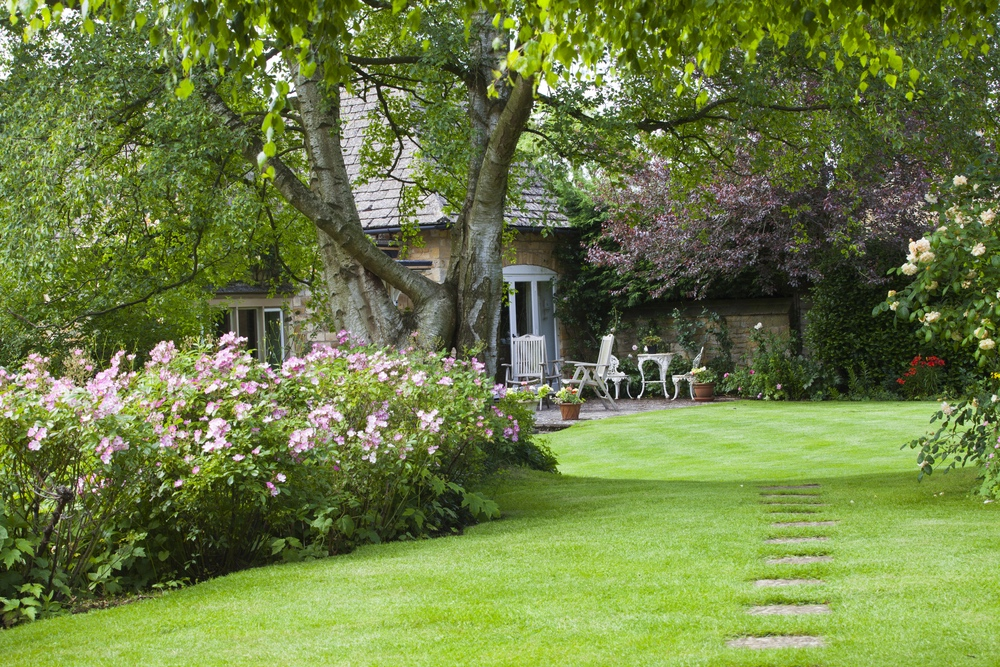grass: (561, 420, 999, 658), (23, 488, 556, 653)
tree: (298, 126, 499, 377)
